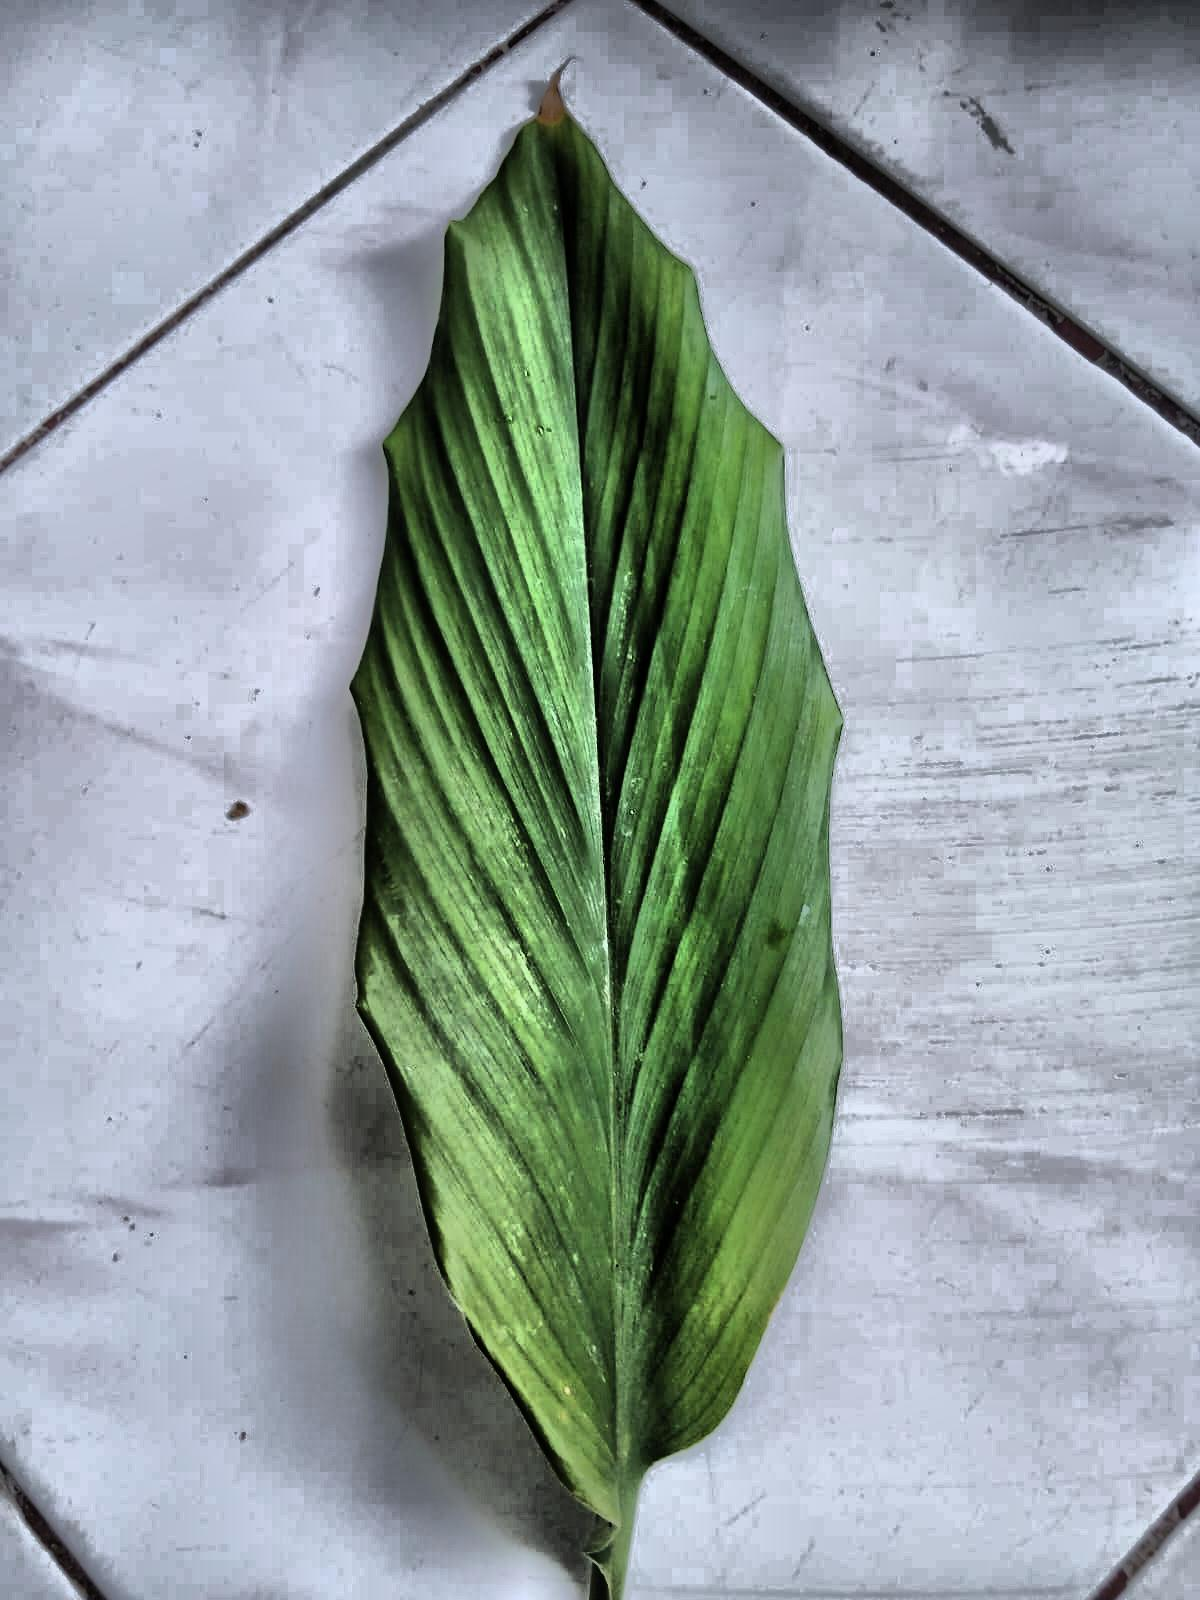daun kunyit: (352, 98, 842, 1599)
